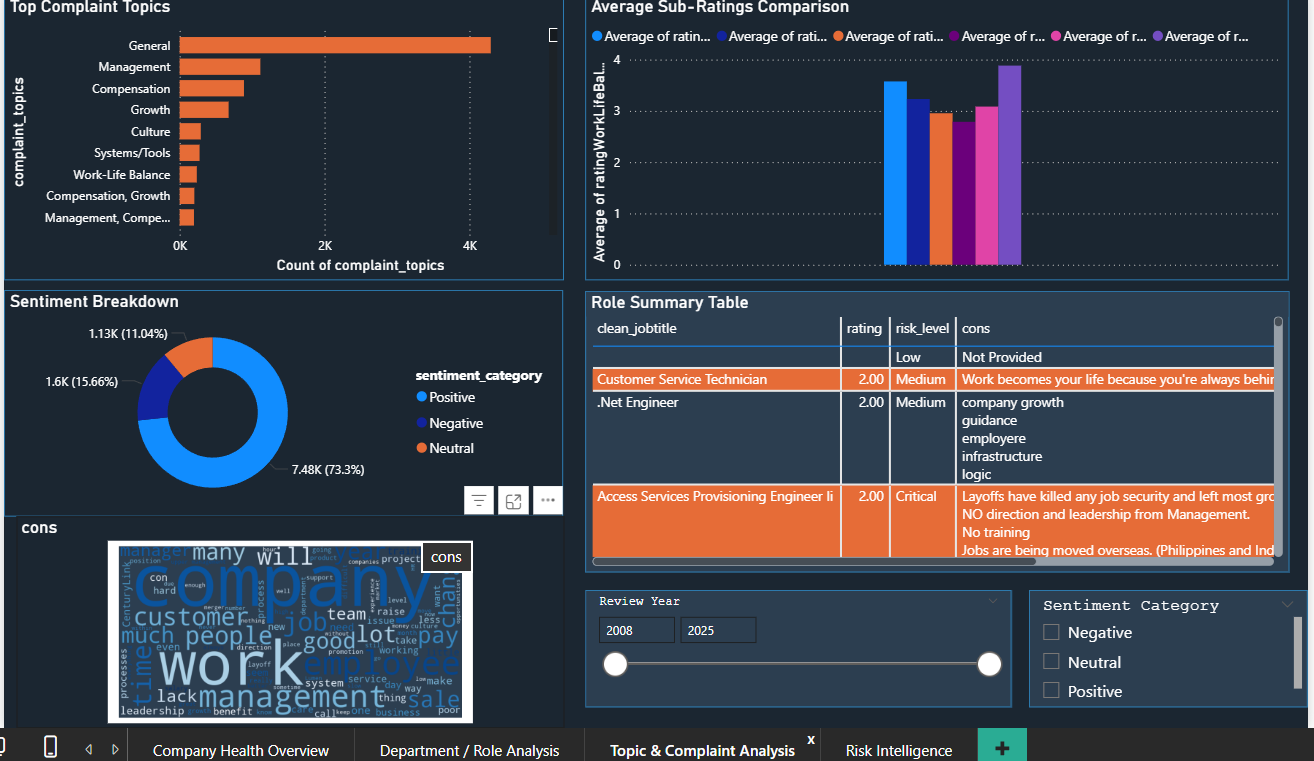

This screenshot's page, from the dashboard's own definition file:
{"tool":"powerbi","page":{"name":" Topic & Complaint Analysis","canvas":[1280,720],"ordinal":2},"visuals":[{"type":"clusteredBarChart","title":"Top Complaint Topics","fields":{"Category":["glassdoor_cleaned_for_powerbi.complaint_topics"],"Y":["CountNonNull(glassdoor_cleaned_for_powerbi.complaint_topics)"]},"box":[0,0,549.4,279.9],"z":0},{"type":"clusteredColumnChart","title":"Average Sub-Ratings Comparison","fields":{"Y":["Avg(glassdoor_cleaned_for_powerbi.ratingWorkLifeBalance)","Avg(glassdoor_cleaned_for_powerbi.ratingCompensationAndBenefits)","Avg(glassdoor_cleaned_for_powerbi.ratingCareerOpportunities)","Avg(glassdoor_cleaned_for_powerbi.ratingSeniorLeadership)","Avg(glassdoor_cleaned_for_powerbi.ratingCultureAndValues)","Avg(glassdoor_cleaned_for_powerbi.ratingDiversityAndInclusion)"]},"box":[570.2,0,690.7,279.9],"z":1000},{"type":"donutChart","title":"Sentiment Breakdown","fields":{"Category":["glassdoor_cleaned_for_powerbi.sentiment_category"],"Y":["CountNonNull(glassdoor_cleaned_for_powerbi.sentiment_category)"]},"box":[0,289.6,548.5,222.1],"z":2000},{"type":"tableEx","title":"Role Summary Table","fields":{"Values":["glassdoor_cleaned_for_powerbi.clean_jobtitle","glassdoor_cleaned_for_powerbi.rating","glassdoor_cleaned_for_powerbi.risk_level","glassdoor_cleaned_for_powerbi.cons"]},"box":[570.6,290.8,690.8,276.1],"z":3000},{"type":"slicer","fields":{"Values":["glassdoor_cleaned_for_powerbi.review_year"]},"box":[570.6,584.1,418.4,115.3],"z":4000},{"type":"slicer","fields":{"Values":["glassdoor_cleaned_for_powerbi.sentiment_category"]},"box":[1006.1,584.1,273.6,115.3],"z":5000},{"type":"pythonVisual","fields":{"Values":["glassdoor_cleaned_for_powerbi.cons"]},"box":[11.7,511.9,537.9,208.4],"z":6000}]}

Visuals, with their boxes on the page's 1280x720 design canvas (x1, y1, x2, y2). These are canvas units, not pixel positions in the 1314x761 screenshot, which may show the page scaled, cropped or inside an application window:
"Top Complaint Topics" clusteredBarChart: (0,0,549,280)
"Average Sub-Ratings Comparison" clusteredColumnChart: (570,0,1261,280)
"Sentiment Breakdown" donutChart: (0,290,548,512)
"Role Summary Table" tableEx: (571,291,1261,567)
slicer - glassdoor_cleaned_for_powerbi.review_year: (571,584,989,699)
slicer - glassdoor_cleaned_for_powerbi.sentiment_category: (1006,584,1280,699)
pythonVisual - glassdoor_cleaned_for_powerbi.cons: (12,512,550,720)
